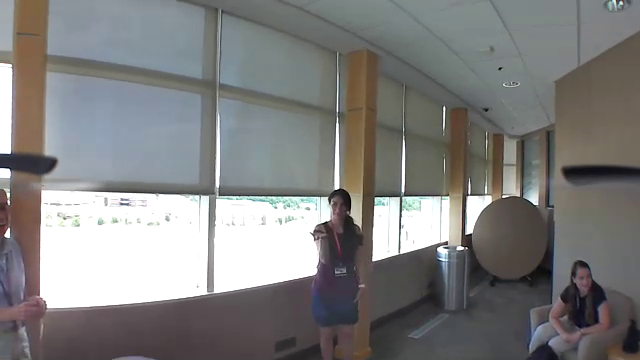land: (306, 228, 328, 241)
